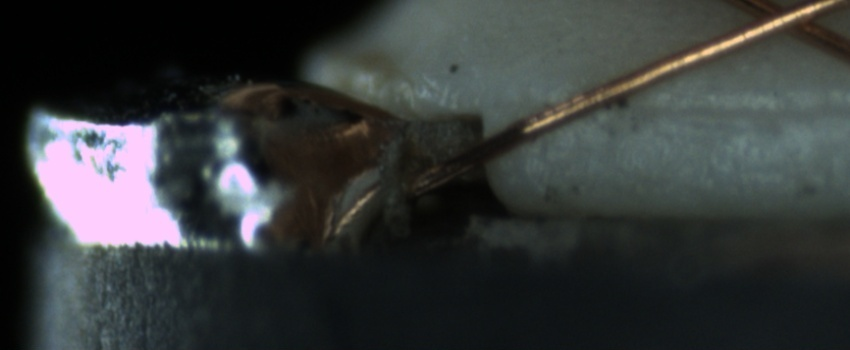CL: (718, 2, 840, 45)
DL: (581, 77, 839, 144)
